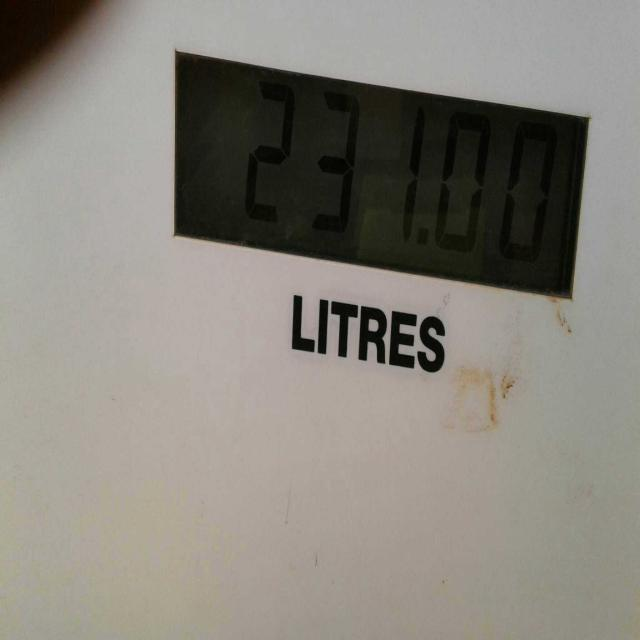.: (415, 217, 434, 263)
0: (435, 89, 497, 273), (506, 99, 556, 277)
1: (388, 82, 426, 263)
2: (241, 70, 306, 233)
3: (302, 82, 364, 251)
